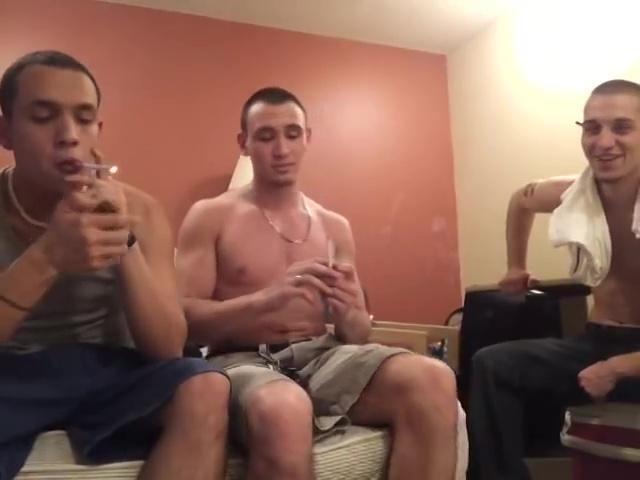cigarette: (74, 158, 122, 174), (325, 234, 341, 272)
